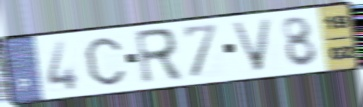4: (44, 39, 81, 93)
7: (183, 22, 222, 82)
8: (281, 14, 321, 68)
C: (83, 35, 128, 88)
R: (132, 26, 186, 87)
V: (228, 17, 276, 74)
